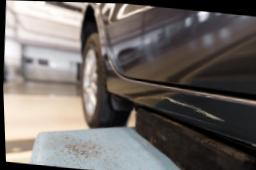Door: (141, 67, 241, 137)
